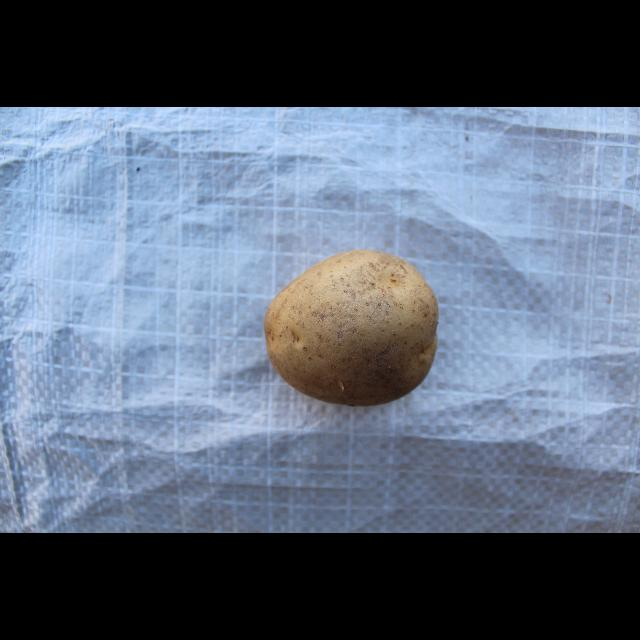Diseased-fungal potato: (264, 247, 444, 409)
